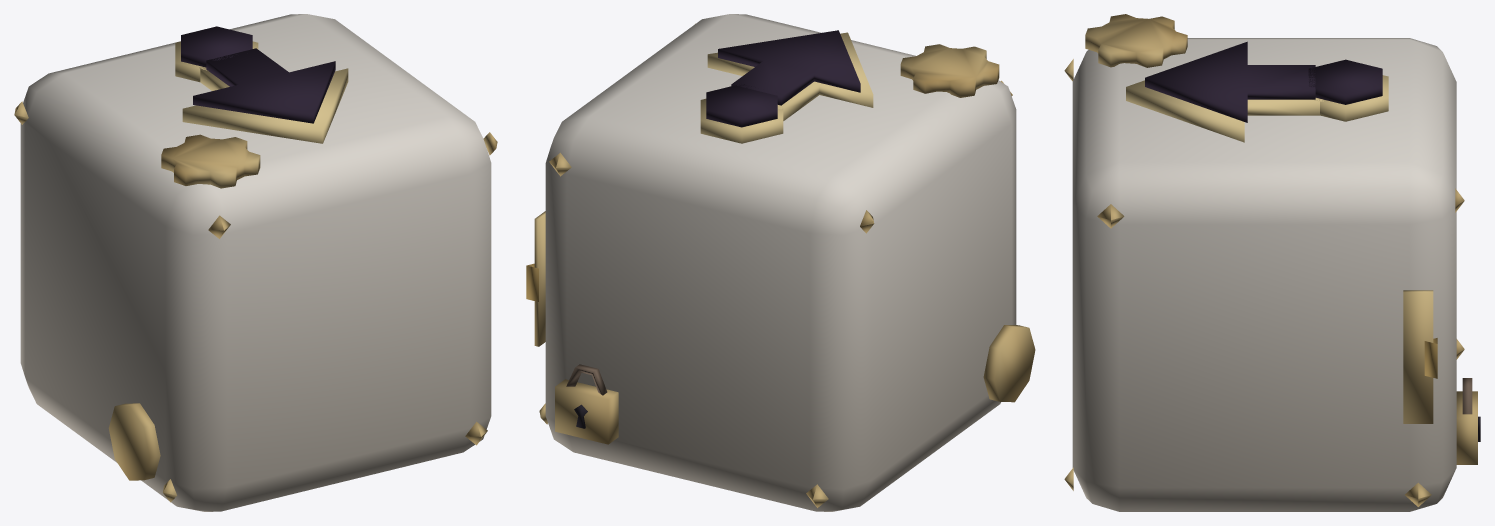
The model's file is pirinc_lo.glb.
3 renders of one model, left to right at view 1: azimuth 30°, elevation 25°; view 2: azimuth 150°, elevation 25°; view 3: azimuth 270°, elevation 25°, orthographic. The views are drawn at different scales.
Parts seen in each view (by area): view 1: pirinc_lo; view 2: pirinc_lo; view 3: pirinc_lo.
Boxes of the visible parts, box(x1,y1,x2,y2) form: pirinc_lo: box(14, 14, 497, 511); pirinc_lo: box(526, 14, 1035, 511); pirinc_lo: box(1064, 14, 1480, 511).
Bounding box in the file's own units: 0.9843 × 0.96 × 0.9749.
